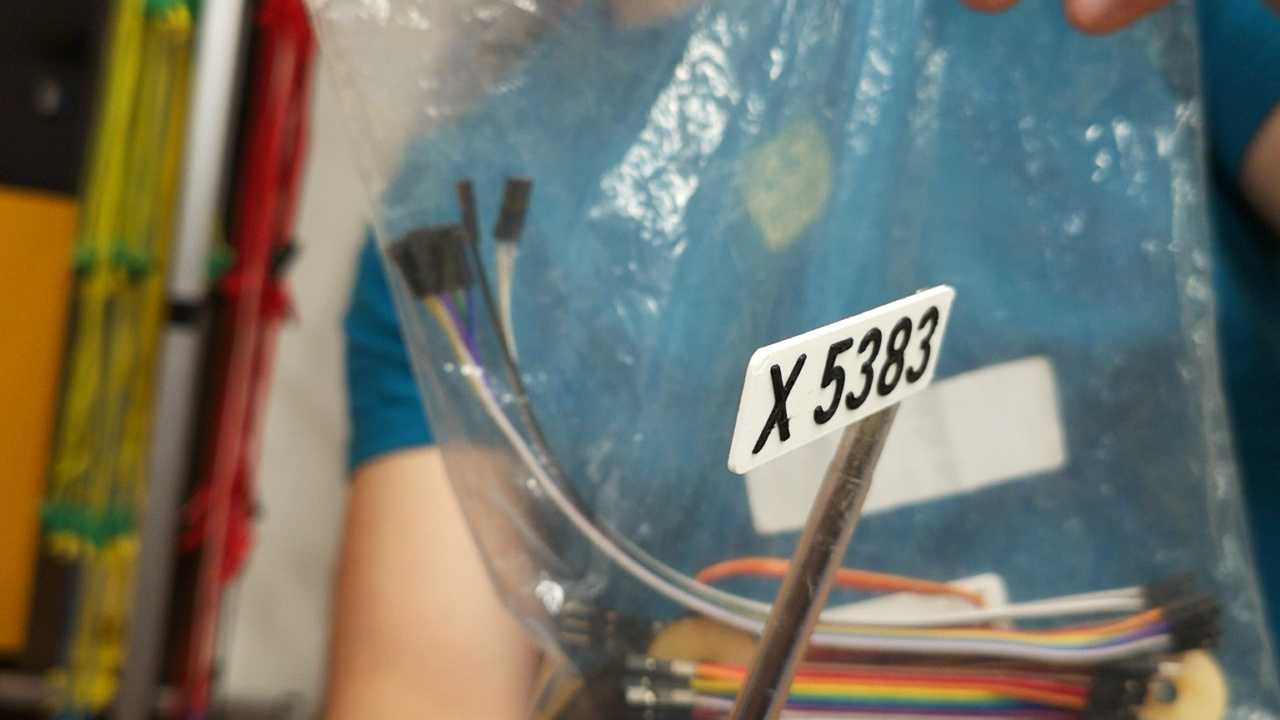license_plate: (725, 280, 957, 479)
